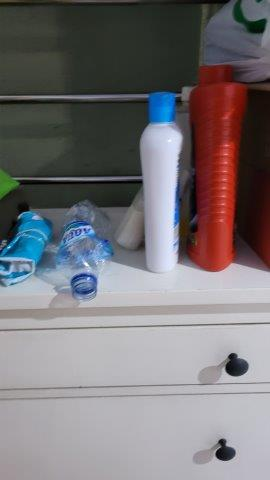botolplastik: (56, 201, 111, 301)
